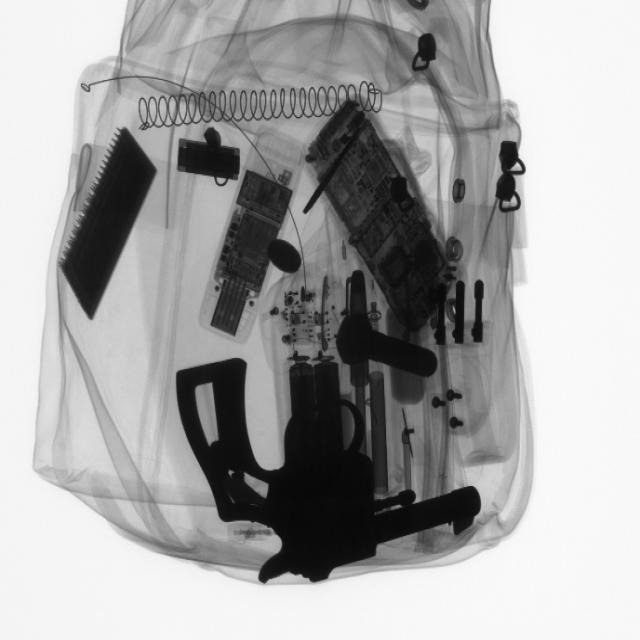GUN: (160, 344, 487, 585)
